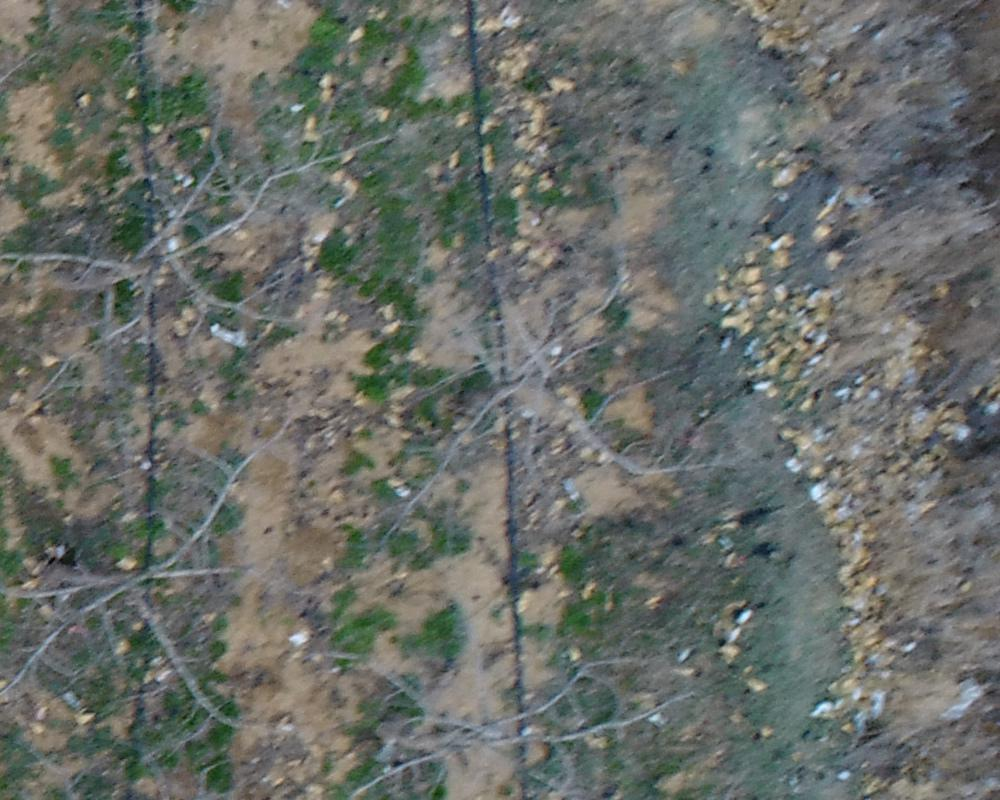apple: (10, 81, 404, 470), (351, 250, 747, 562), (10, 434, 296, 743), (328, 618, 738, 790)
